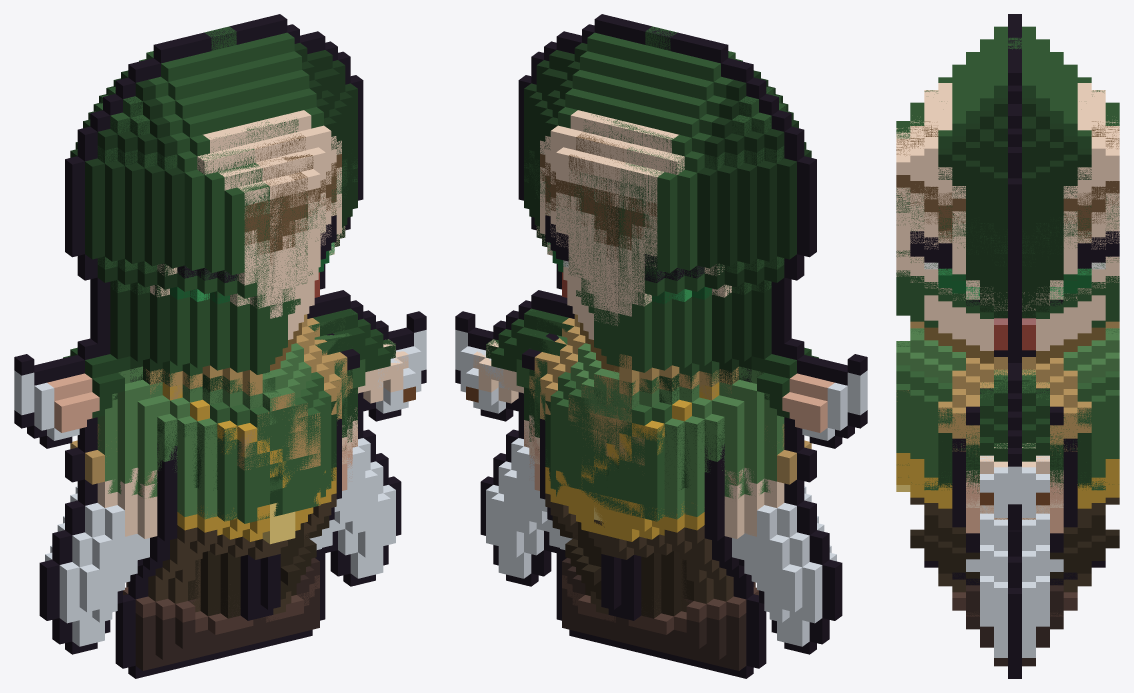
File: rogue.glb
3 views of the same model, side by side, from view 1: azimuth 30°, elevation 25°; view 2: azimuth 150°, elevation 25°; view 3: azimuth 270°, elevation 25° (orthographic). The views are drawn at different scales.
Parts seen in each view (by area): view 1: f0, f14, f1, f15, f2, f9, f8, f13, f7, f6, f4, f18 (+3 smaller); view 2: f0, f14, f1, f15, f2, f9, f7, f13, f8, f6, f4, f18 (+3 smaller); view 3: f0, f1, f2, f6, f15, f14, f8, f9, f18, f7, f11, f16 (+1 smaller).
Boxes of the visible parts, x1,y1,x2,y2 form: f0: [52, 14, 401, 675]; f14: [65, 20, 325, 663]; f1: [52, 45, 401, 654]; f15: [65, 145, 350, 488]; f2: [115, 290, 401, 657]; f9: [39, 372, 352, 678]; f8: [39, 146, 388, 629]; f13: [14, 338, 319, 492]; f7: [39, 133, 388, 609]; f6: [245, 306, 426, 509]; f4: [77, 366, 352, 666]; f18: [168, 520, 332, 664]; f0: [480, 14, 829, 675]; f14: [556, 21, 816, 662]; f1: [480, 45, 829, 654]; f15: [531, 146, 816, 489]; f2: [480, 290, 766, 657]; f9: [529, 373, 842, 678]; f7: [493, 133, 842, 609]; f13: [570, 338, 867, 521]; f8: [493, 147, 842, 623]; f6: [455, 308, 649, 505]; f4: [529, 366, 804, 672]; f18: [549, 520, 720, 670]; f0: [896, 14, 1119, 631]; f1: [896, 50, 1119, 650]; f2: [924, 363, 1105, 678]; f6: [910, 377, 1115, 530]; f15: [896, 257, 1119, 585]; f14: [896, 14, 1119, 343]; f8: [896, 205, 1119, 670]; f9: [924, 451, 1105, 635]; f18: [910, 515, 1119, 585]; f7: [896, 188, 1119, 650]; f11: [966, 369, 1063, 519]; f16: [938, 573, 1091, 610].
Bounding box in the file's own units: 2 × 2.94 × 1.
